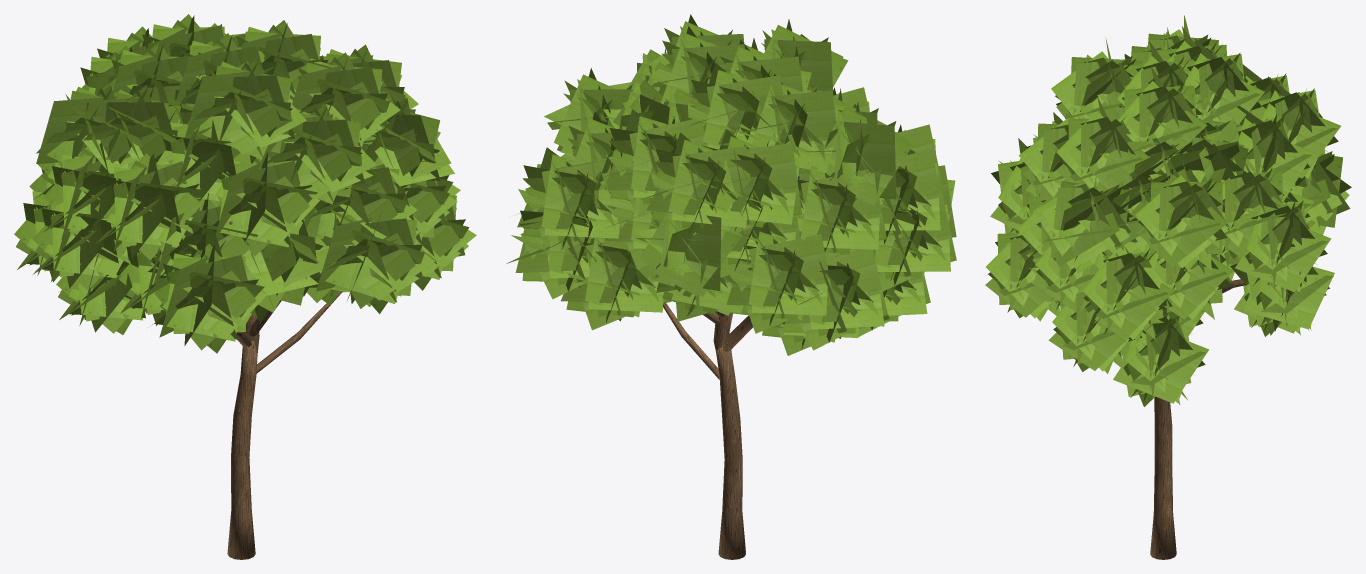
Rendered from tree.glb.
The picture shows the model from 3 angles, left to right: view 1: azimuth 30°, elevation 25°; view 2: azimuth 150°, elevation 25°; view 3: azimuth 270°, elevation 25°; orthographic projection. The views are drawn at different scales.
Visible parts, largest first — view 1: Plane.018, Plane.005, Plane.050, Plane.019, Plane.013, Plane.040, Plane.004, Plane.064, Plane.066, Plane.052, Plane.069, trunk-col (+19 smaller); view 2: Plane.075, Plane.056, Plane.016, Plane.014, Plane.060, Plane.076, Plane.011, Plane.064, Plane.008, Plane.015, Plane.046, Plane.010 (+22 smaller); view 3: Plane.017, Plane.052, Plane.070, Plane.016, Plane.007, Plane.004, Plane.039, Plane.010, Plane.005, Plane.009, Plane.050, Plane.071 (+18 smaller).
Boxes of the visible parts, left/top/right/bottom form: Plane.018: left=151, top=243, right=267, bottom=353; Plane.005: left=185, top=59, right=306, bottom=163; Plane.050: left=314, top=211, right=435, bottom=314; Plane.019: left=94, top=153, right=207, bottom=260; Plane.013: left=213, top=152, right=320, bottom=259; Plane.040: left=259, top=103, right=376, bottom=213; Plane.004: left=292, top=52, right=400, bottom=148; Plane.064: left=36, top=85, right=143, bottom=173; Plane.066: left=32, top=200, right=130, bottom=290; Plane.052: left=361, top=97, right=454, bottom=194; Plane.069: left=220, top=209, right=336, bottom=323; trunk-col: left=227, top=340, right=257, bottom=559; Plane.075: left=726, top=231, right=832, bottom=333; Plane.056: left=640, top=132, right=753, bottom=235; Plane.016: left=516, top=147, right=619, bottom=256; Plane.014: left=700, top=129, right=801, bottom=233; Plane.060: left=561, top=237, right=671, bottom=330; Plane.076: left=779, top=249, right=887, bottom=350; Plane.011: left=634, top=199, right=740, bottom=296; Plane.064: left=803, top=101, right=912, bottom=205; Plane.008: left=793, top=166, right=886, bottom=259; Plane.015: left=602, top=109, right=707, bottom=217; Plane.046: left=738, top=73, right=844, bottom=173; Plane.010: left=688, top=62, right=783, bottom=149; Plane.017: left=1135, top=161, right=1229, bottom=271; Plane.052: left=1033, top=177, right=1137, bottom=273; Plane.070: left=1082, top=246, right=1174, bottom=342; Plane.016: left=1235, top=199, right=1331, bottom=293; Plane.007: left=1113, top=315, right=1209, bottom=406; Plane.004: left=1056, top=96, right=1148, bottom=194; Plane.039: left=1117, top=66, right=1207, bottom=173; Plane.010: left=1176, top=38, right=1264, bottom=124; Plane.005: left=1051, top=37, right=1142, bottom=119; Plane.009: left=1222, top=163, right=1289, bottom=258; Plane.050: left=985, top=211, right=1060, bottom=321; Plane.071: left=1048, top=292, right=1142, bottom=374.
Bounding box in the file's own units: 6.75 × 8.23 × 5.59.
Materials: 2 (2 with a texture image).
